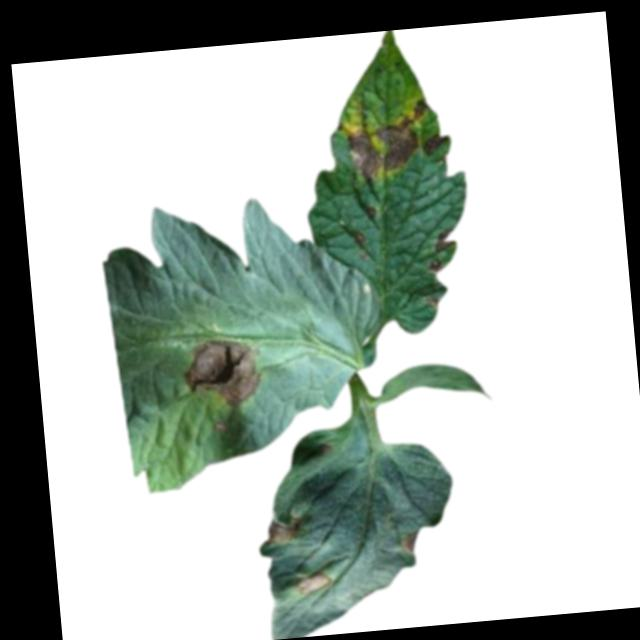Early_blight: (344, 99, 433, 181), (180, 334, 264, 410), (294, 570, 343, 598), (266, 519, 299, 548), (422, 133, 452, 164), (432, 226, 460, 254), (401, 532, 422, 554), (428, 259, 444, 274), (352, 231, 366, 246), (367, 205, 378, 218)
